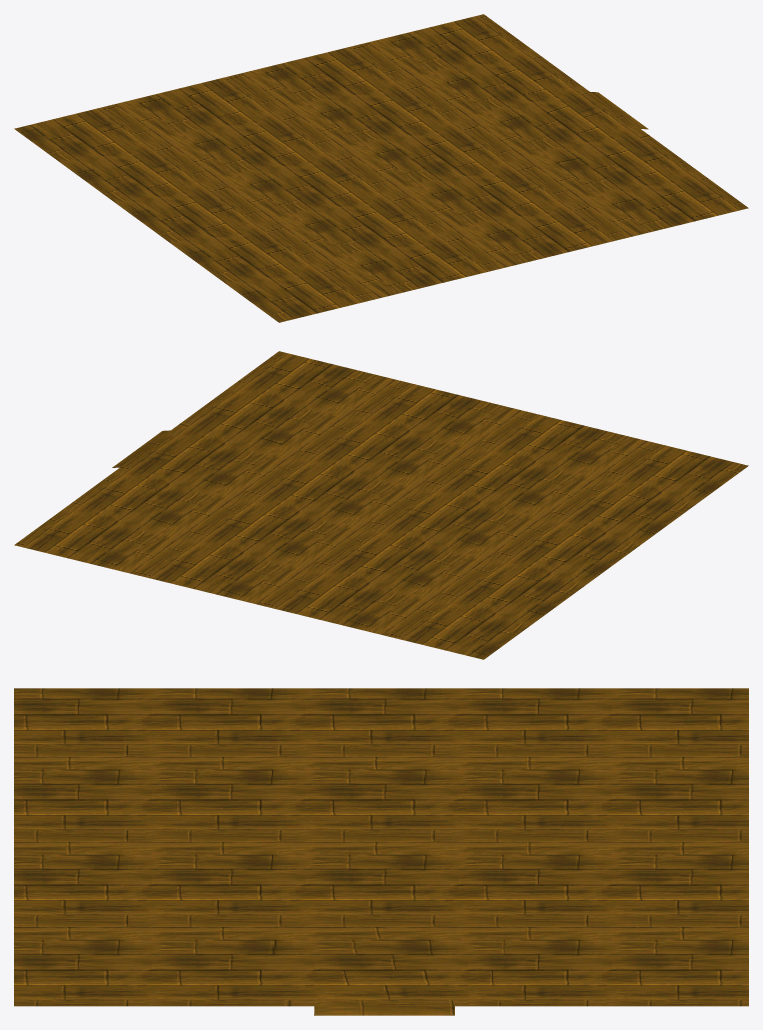
File: HTOWN01_MILLFLOOR.obj
3 views of the same model, one above another, from view 1: azimuth 30°, elevation 25°; view 2: azimuth 150°, elevation 25°; view 3: azimuth 270°, elevation 25° (orthographic). The views are drawn at different scales.
Parts seen in each view (by area): view 1: MillFloor; view 2: MillFloor; view 3: MillFloor.
Part boxes in pixels (x1=…): MillFloor: x1=14, y1=14, x2=748, y2=322; MillFloor: x1=14, y1=351, x2=748, y2=659; MillFloor: x1=14, y1=688, x2=748, y2=1015.
Size of the model in its own units: 1306 by 6.76 by 1254.
